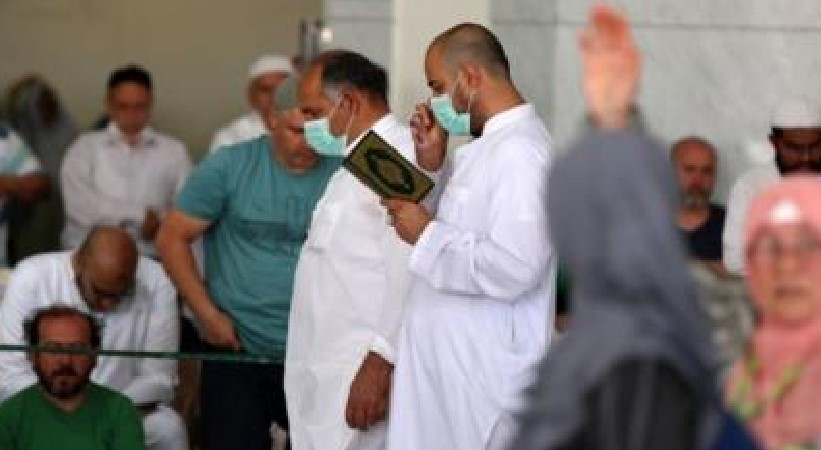face_no_mask: (27, 306, 101, 395), (73, 227, 137, 311), (104, 64, 155, 136), (674, 138, 720, 216)
face_with_mask: (426, 27, 502, 140), (297, 49, 373, 157)
